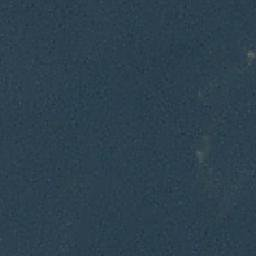debris: (193, 149, 202, 165), (245, 49, 255, 61)
